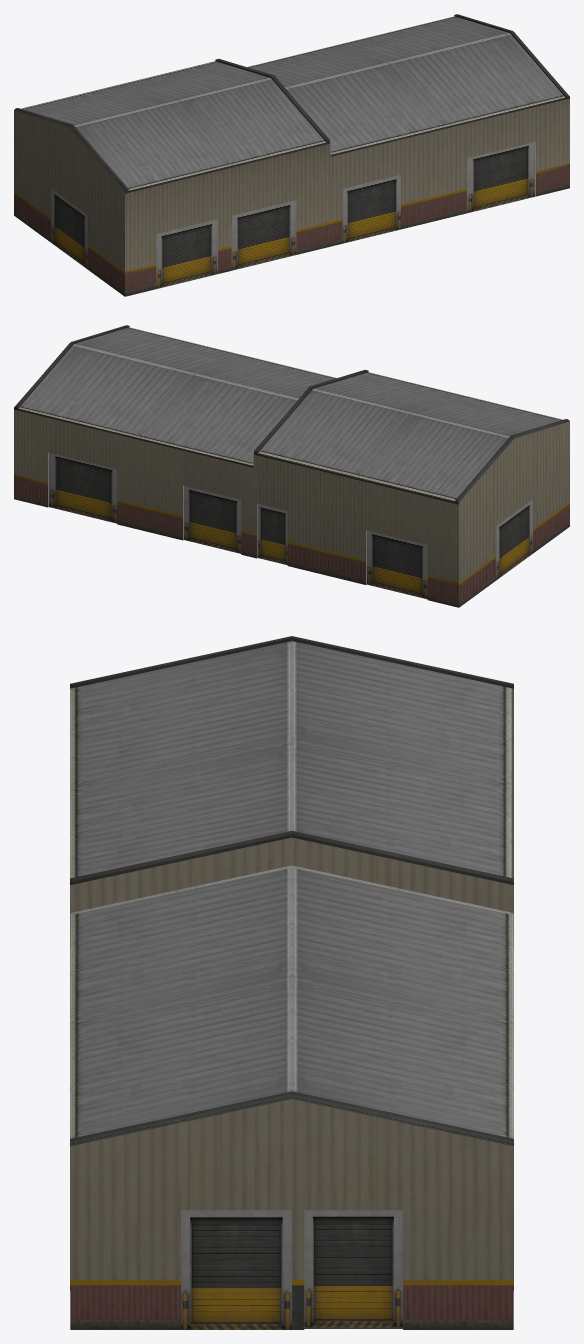
Rendered from warehouse.glb.
3 renders of one model, top to bottom at view 1: azimuth 30°, elevation 25°; view 2: azimuth 150°, elevation 25°; view 3: azimuth 270°, elevation 25°, orthographic. The views are drawn at different scales.
Parts seen in each view (by area): view 1: Cube_warehouse _0; view 2: Cube_warehouse _0; view 3: Cube_warehouse _0.
Boxes of the visible parts, x1,y1,x2,y2 form: Cube_warehouse _0: [14, 14, 569, 296]; Cube_warehouse _0: [14, 325, 569, 607]; Cube_warehouse _0: [70, 636, 513, 1329].
Bounding box in the file's own units: 3.91 × 1.1 × 1.69.
Materials: 1 (1 with a texture image).
